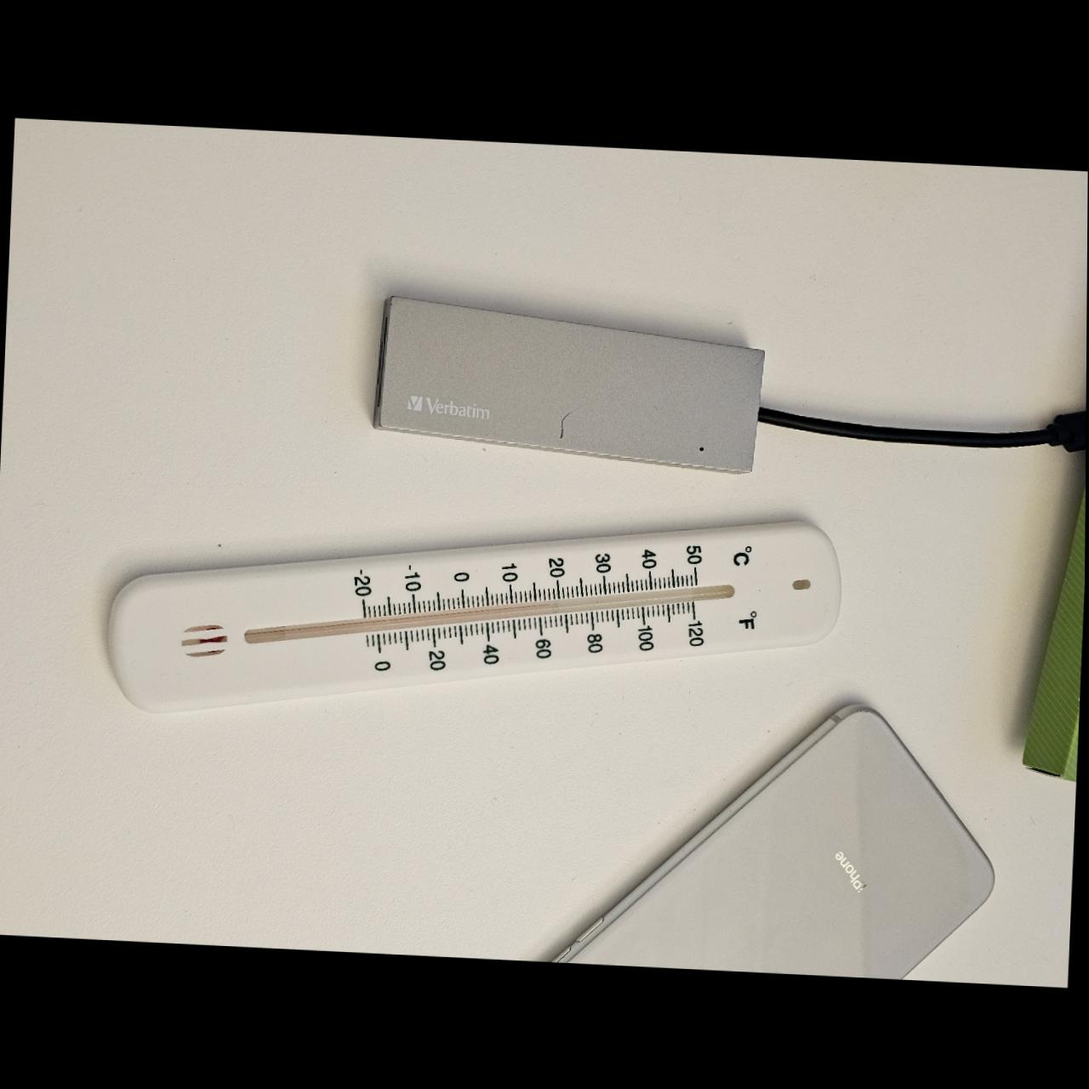thermometer: (100, 484, 845, 748)
